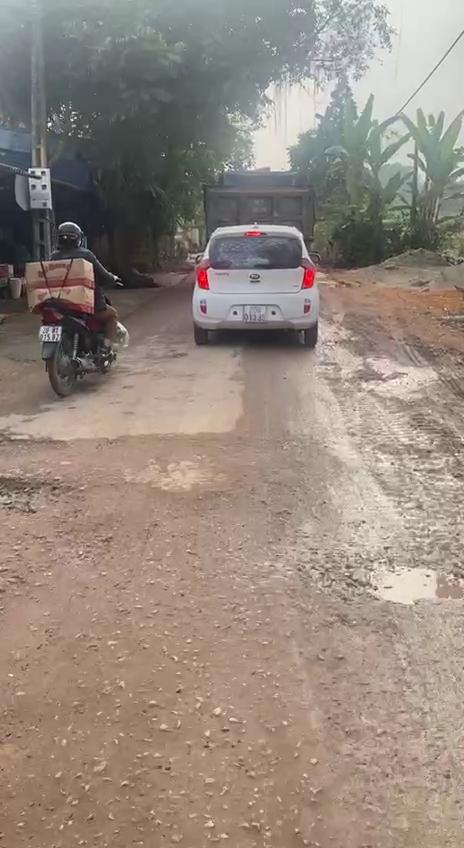pothole: (329, 542, 464, 612), (0, 468, 86, 516)
